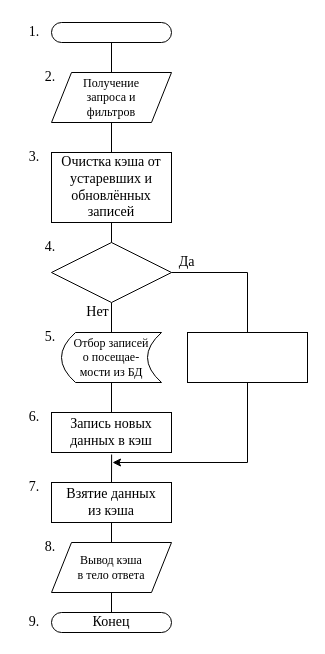
Some shapes in this 325 by 654 pixel diagram are drawn without their labels. Here are the shapes that lost their labels. From the top down, the centre of each, then its label:
pixel 111 32: Начало
pixel 111 272: Фильтр есть в кэше?
pixel 247 357: Перестановка фильтра в конец истории запросов
